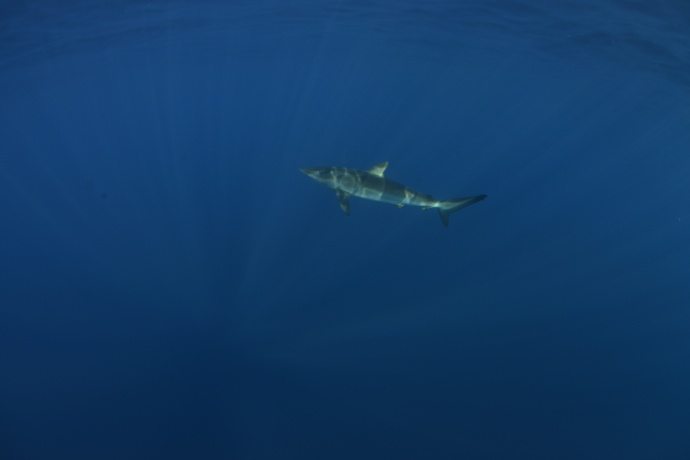Sedoso: (249, 156, 496, 240)
